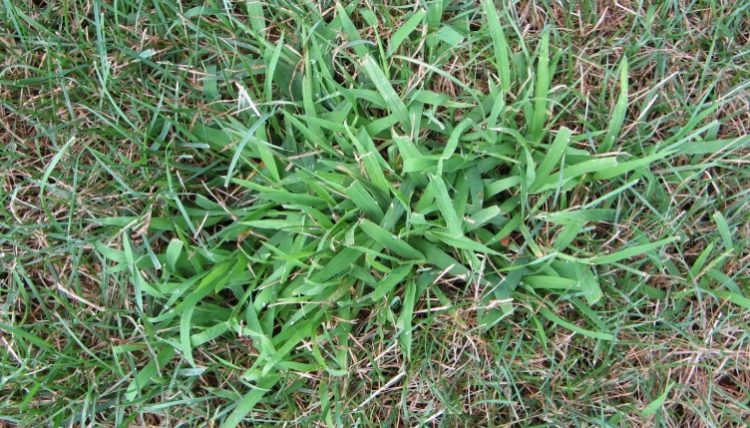crabgrass: (186, 53, 646, 364)
